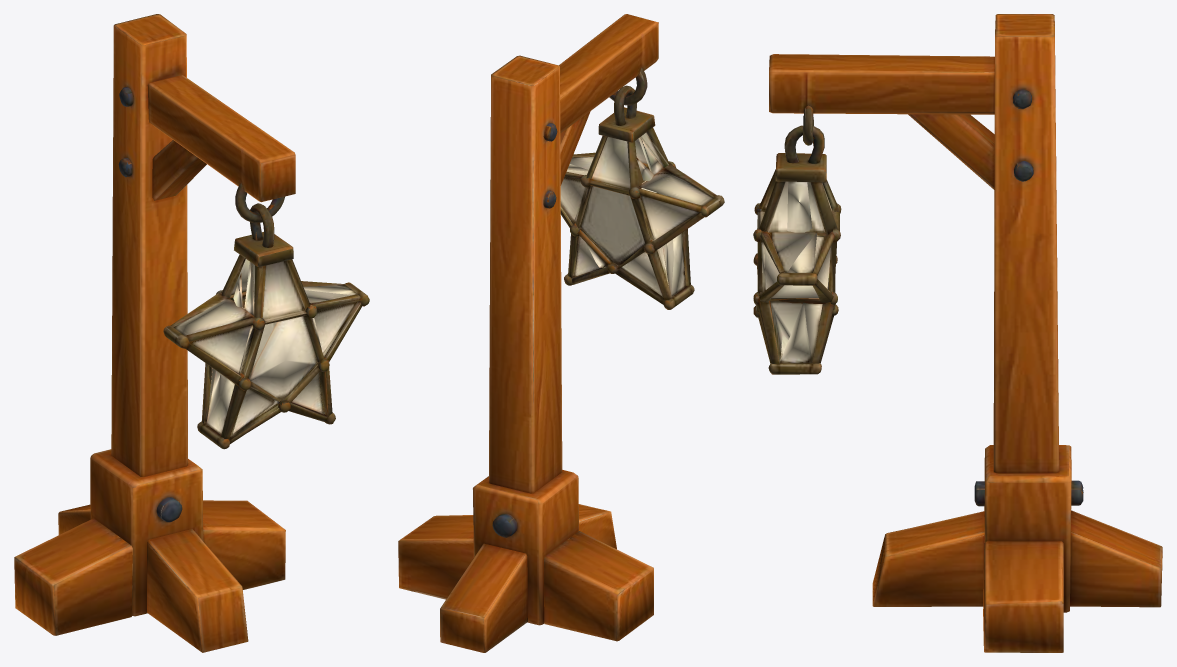
The model's file is trade_star.glb.
3 views of the same model, side by side, from view 1: azimuth 30°, elevation 25°; view 2: azimuth 150°, elevation 25°; view 3: azimuth 270°, elevation 25° (orthographic). The views are drawn at different scales.
Size of the model in its own units: 0.4356 by 1 by 0.6508.
Materials: 1 (1 with a texture image).
